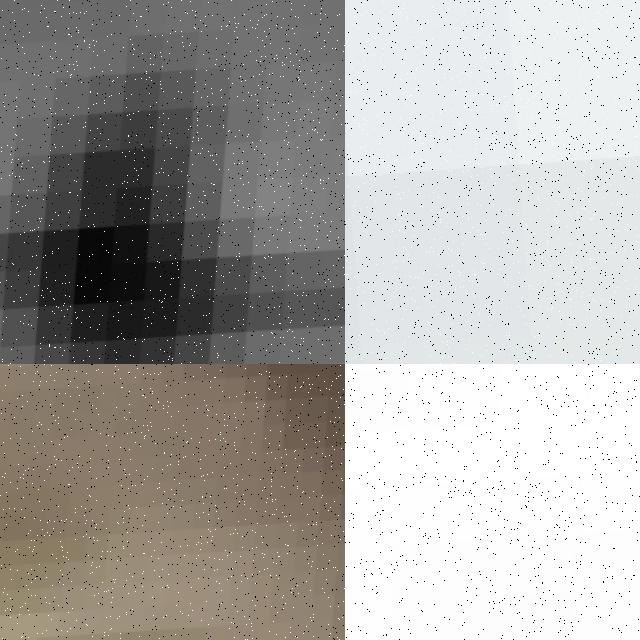0: (0, 0, 345, 364)
drone: (0, 364, 345, 640), (345, 364, 640, 640)
